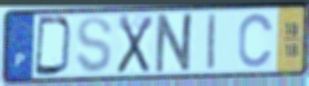C: (236, 11, 275, 70)
D: (33, 15, 75, 78)
I: (206, 11, 219, 73)
N: (153, 10, 198, 75)
S: (74, 15, 114, 76)
X: (115, 13, 155, 75)
